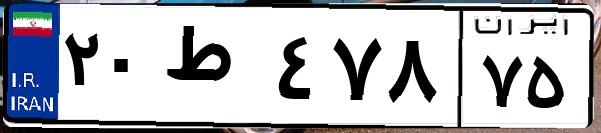0: (110, 28, 158, 98)
2: (57, 26, 110, 100)
4: (270, 28, 330, 110)
5: (525, 38, 570, 115)
7: (330, 28, 385, 110), (475, 38, 525, 113)
8: (385, 28, 445, 110)
ط: (158, 20, 270, 120)
